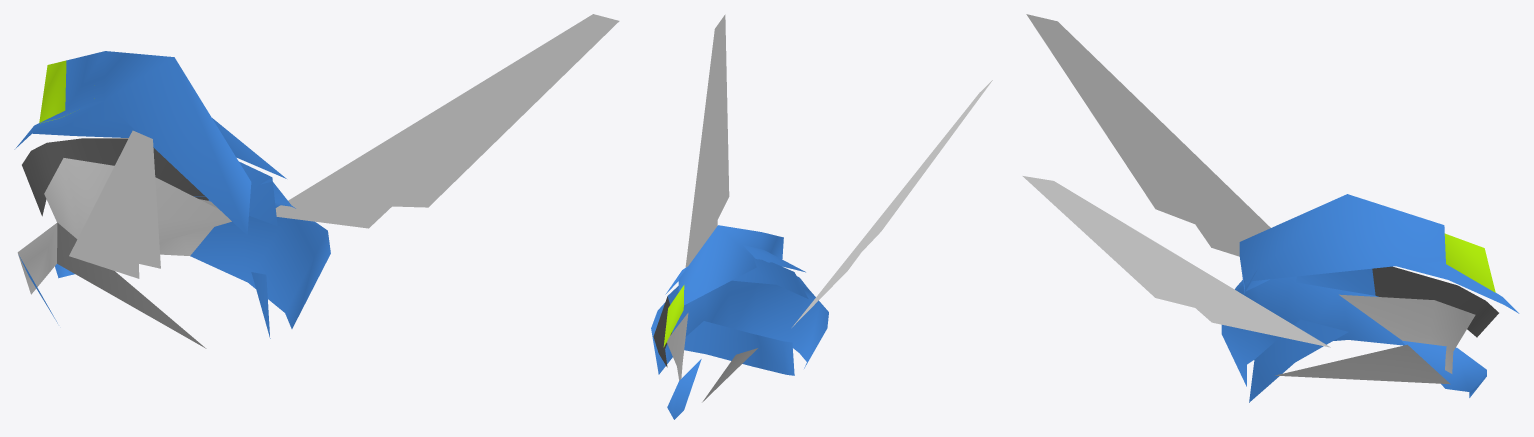
File: ps2_save-icons_sunriseeiyuutanr.glb
3 renders of one model, left to right at view 1: azimuth 30°, elevation 25°; view 2: azimuth 150°, elevation 25°; view 3: azimuth 270°, elevation 25°, orthographic. The views are drawn at different scales.
Visible parts, largest first — view 1: impuls7.ico; view 2: impuls7.ico; view 3: impuls7.ico.
Part boxes in pixels (x1,y1,x2,y2): impuls7.ico: (14, 14, 619, 348); impuls7.ico: (651, 14, 992, 419); impuls7.ico: (1022, 14, 1519, 402).
Size of the model in its own units: 2.41 by 2.22 by 3.15.
1 material, 1 textured.
